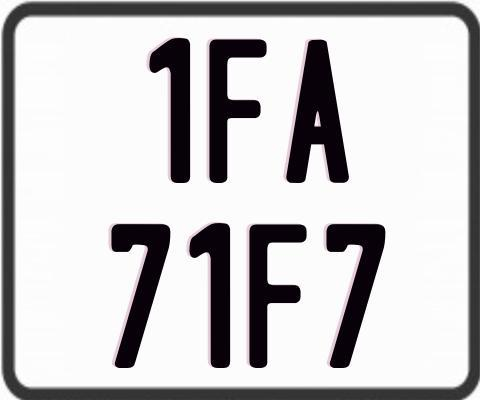1: (188, 222, 232, 372), (147, 37, 189, 188)
7: (325, 221, 388, 370), (108, 223, 168, 369)
A: (286, 39, 350, 184)
F: (248, 221, 312, 368), (208, 39, 268, 188)
